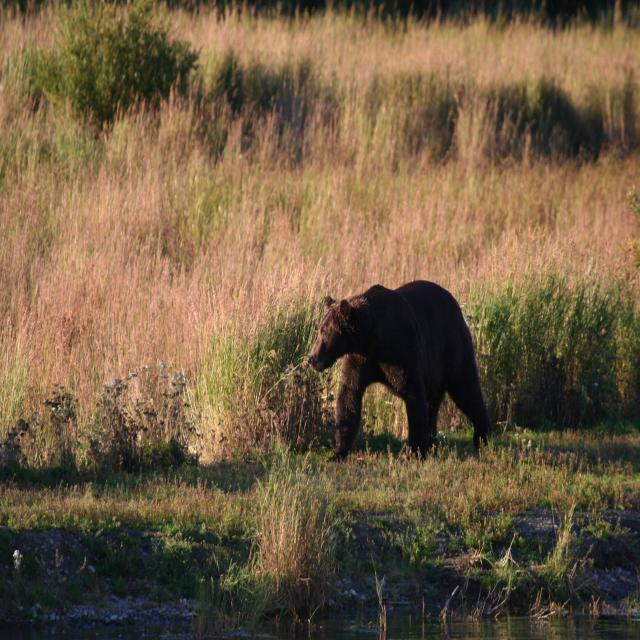bear face: (307, 277, 490, 438)
